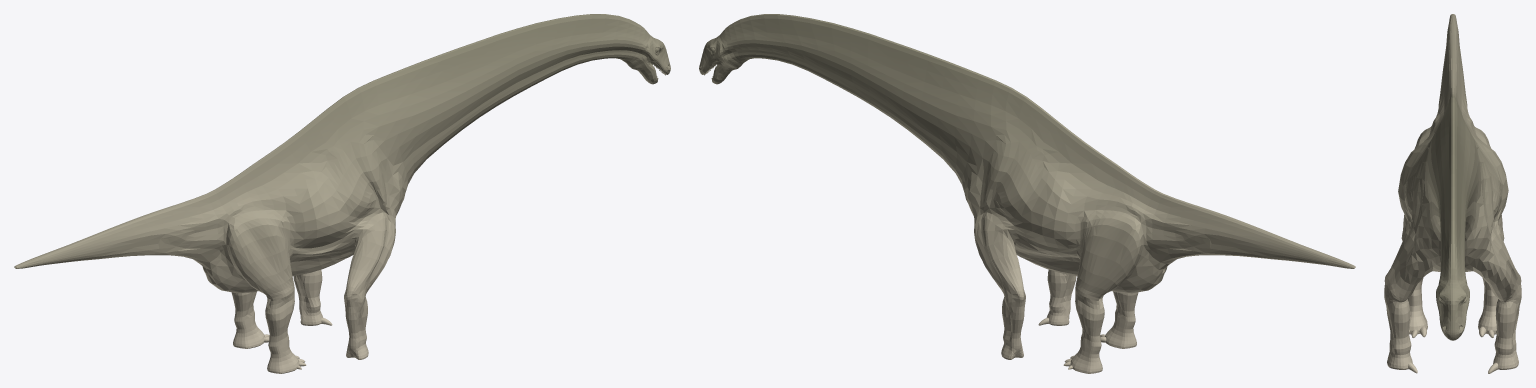
Rendered from titanosaurus.glb.
3 renders of one model, left to right at view 1: azimuth 30°, elevation 25°; view 2: azimuth 150°, elevation 25°; view 3: azimuth 270°, elevation 25°, orthographic. The views are drawn at different scales.
Parts seen in each view (by area): view 1: world; view 2: world; view 3: world.
Part boxes in pixels (box(x1,y1,x2,y2)): world: box(14, 14, 670, 373); world: box(699, 14, 1355, 373); world: box(1384, 14, 1521, 373).
Size of the model in its own units: 10 by 3.9 by 1.58.
